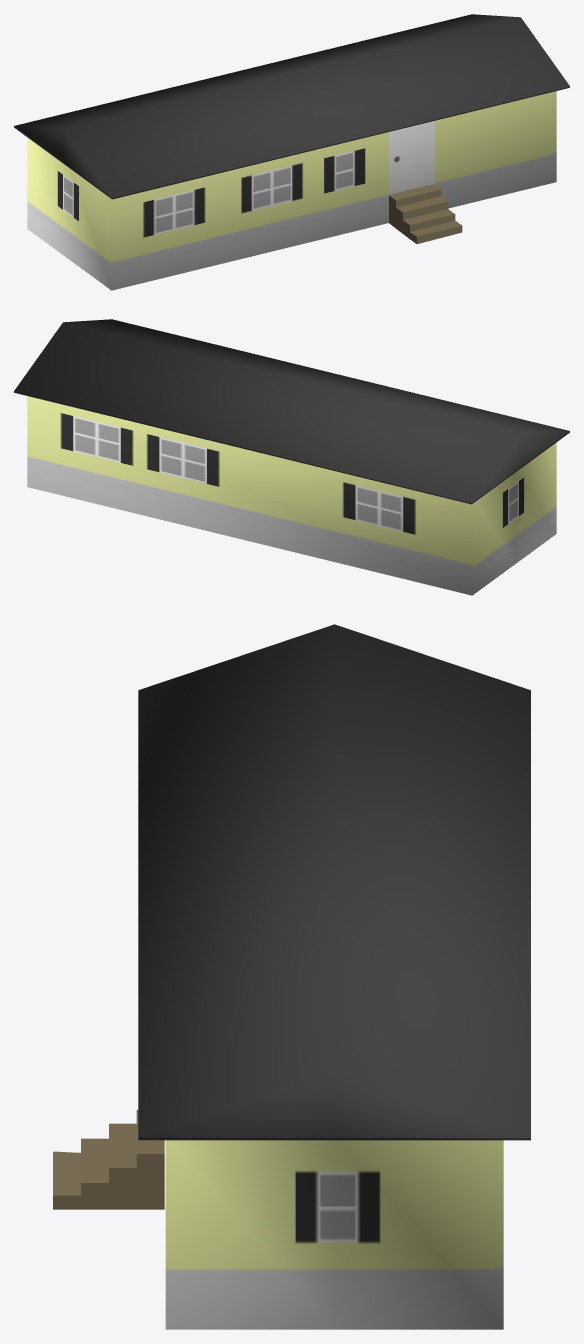
Rendered from Trailer.fbx.
The picture shows the model from 3 angles, top to bottom: view 1: azimuth 30°, elevation 25°; view 2: azimuth 150°, elevation 25°; view 3: azimuth 270°, elevation 25°; orthographic projection. The views are drawn at different scales.
Parts seen in each view (by area): view 1: Cube; view 2: Cube; view 3: Cube.
Boxes of the visible parts, bbox=[...] form: Cube: bbox=[14, 14, 569, 290]; Cube: bbox=[14, 319, 569, 595]; Cube: bbox=[53, 624, 530, 1329].
Bounding box in the file's own units: 4513 × 1252 × 2041.
1 material, 1 textured.
